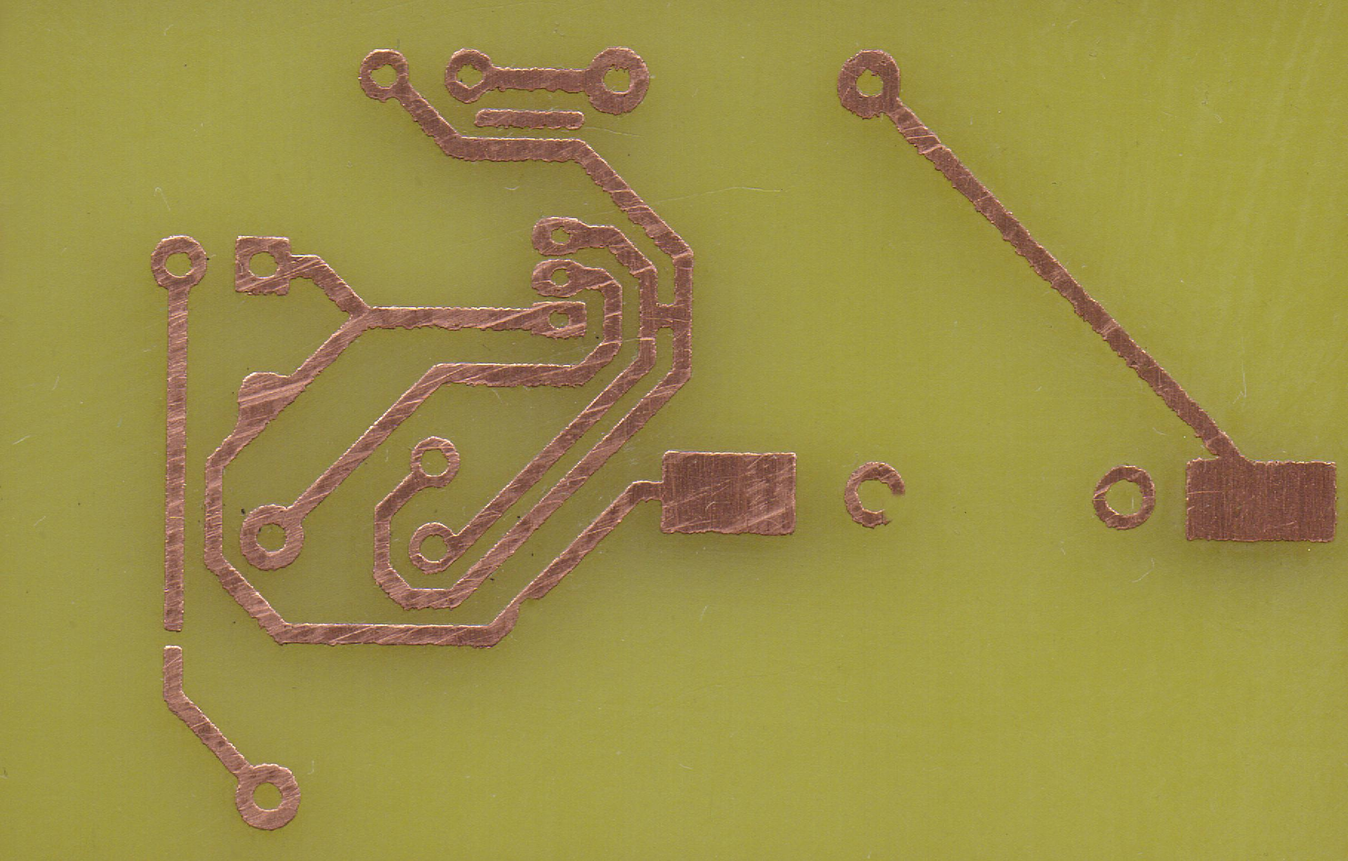missing_hole: (838, 461, 908, 530)
mouse_bite: (513, 585, 543, 623)
open_circuit: (159, 620, 189, 658)
short: (636, 299, 696, 337)
spur: (227, 367, 296, 424)
spurious_copper: (465, 107, 592, 133)
